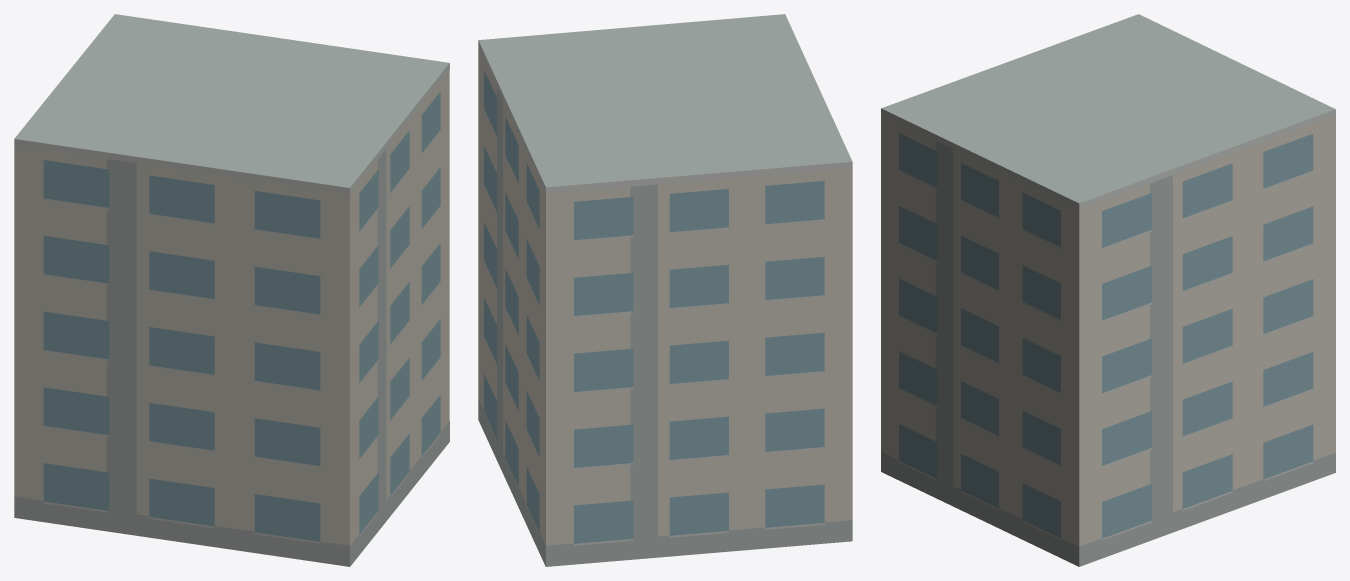
Rendered from survey-upis-32890885.glb.
The picture shows the model from 3 angles, left to right: view 1: azimuth 30°, elevation 25°; view 2: azimuth 150°, elevation 25°; view 3: azimuth 270°, elevation 25°; orthographic projection. The views are drawn at different scales.
Parts seen in each view (by area): view 1: survey-upis-32890885.tmp; view 2: survey-upis-32890885.tmp; view 3: survey-upis-32890885.tmp.
Boxes of the visible parts, x1,y1,x2,y2 form: survey-upis-32890885.tmp: (14,14,449,566); survey-upis-32890885.tmp: (478,14,852,566); survey-upis-32890885.tmp: (881,14,1335,566).
Bounding box in the file's own units: 16.15 × 14.45 × 16.39.
